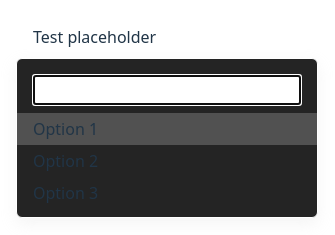
Select › With expanded dropdown › shows selected option
This screenshot has width=335, height=235.
Click the option "Option 2": (66,161) [33,150,98,172]
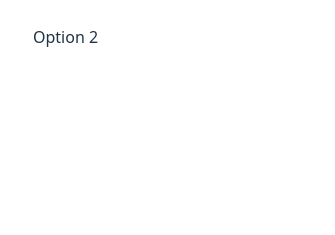
Expected: the dropdown with test id "selected-option-value" holds "option-2", [16,16,316,58]
Now the text with test id "display-content" reads "Option 2", box [33,26,98,48]
